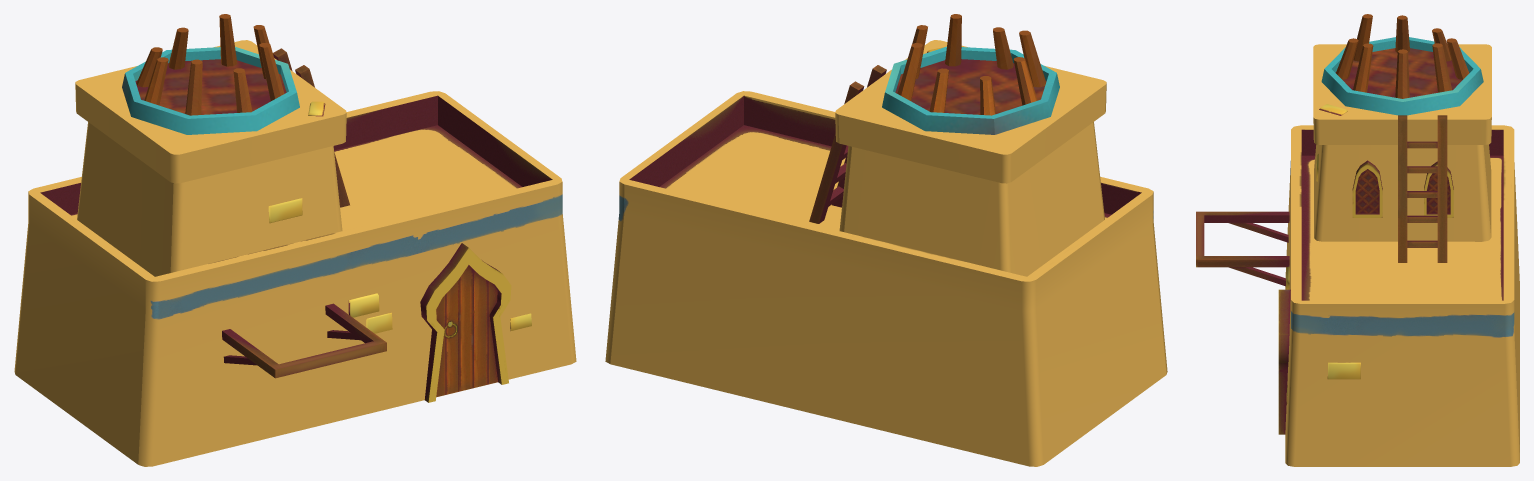
Rendered from arabian_house_almost.fbx.
3 views of the same model, side by side, from view 1: azimuth 30°, elevation 25°; view 2: azimuth 150°, elevation 25°; view 3: azimuth 270°, elevation 25° (orthographic). The views are drawn at different scales.
Visible parts, largest first — view 1: arabian_house_almost; view 2: arabian_house_almost; view 3: arabian_house_almost.
Boxes of the visible parts, x1,y1,x2,y2 form: arabian_house_almost: (14,14,576,466); arabian_house_almost: (605,14,1167,466); arabian_house_almost: (1196,14,1519,466).
Size of the model in its own units: 4.46 by 3.39 by 3.26.
